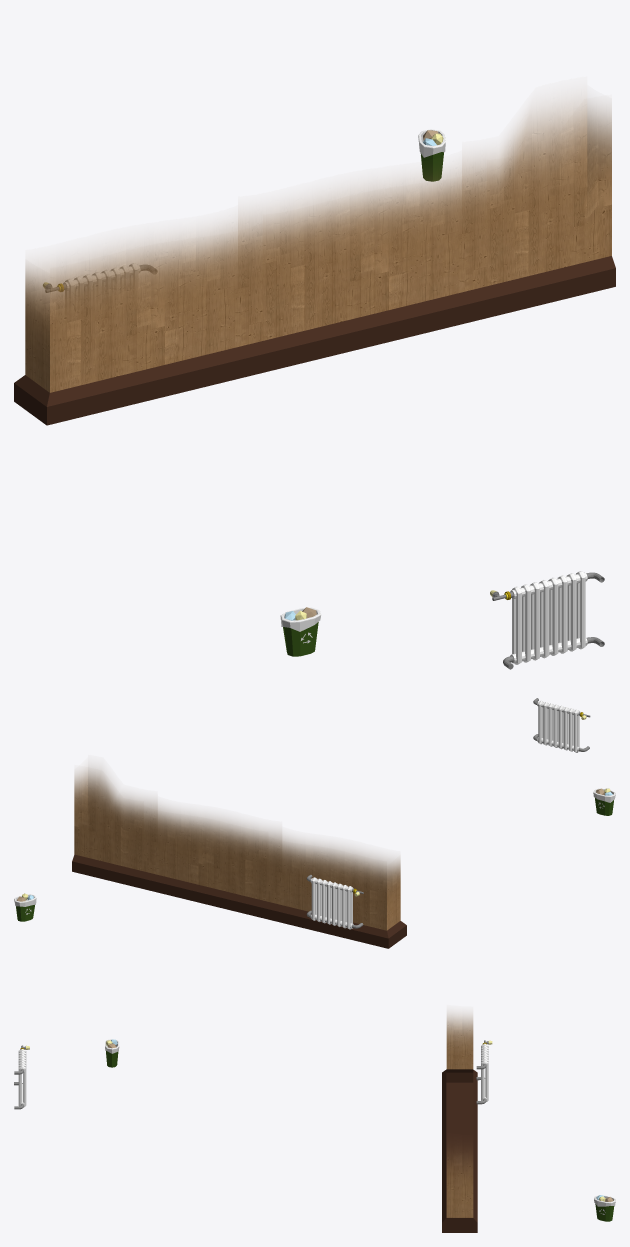
File: dTShape Sampleroom - Deko.glb
The picture shows the model from 3 angles, top to bottom: view 1: azimuth 30°, elevation 25°; view 2: azimuth 150°, elevation 25°; view 3: azimuth 270°, elevation 25°; orthographic projection. The views are drawn at different scales.
Visible parts, largest first — view 1: Cube.023; view 2: Cube.023; view 3: Cube.023.
Part boxes in pixels (<box>): Cube.023: <box>14,98,615,669</box>; Cube.023: <box>14,698,615,948</box>; Cube.023: <box>14,1014,615,1232</box>.
Bounding box in the file's own units: 7.19 × 2.7 × 10.83.
2 materials, 2 textured.
